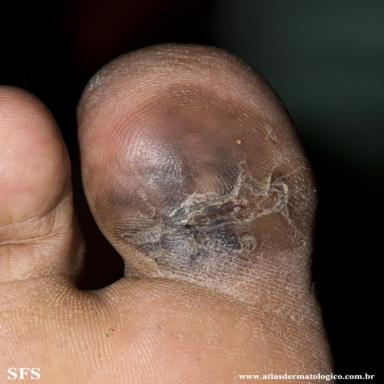Melanoma: (106, 83, 315, 276)
